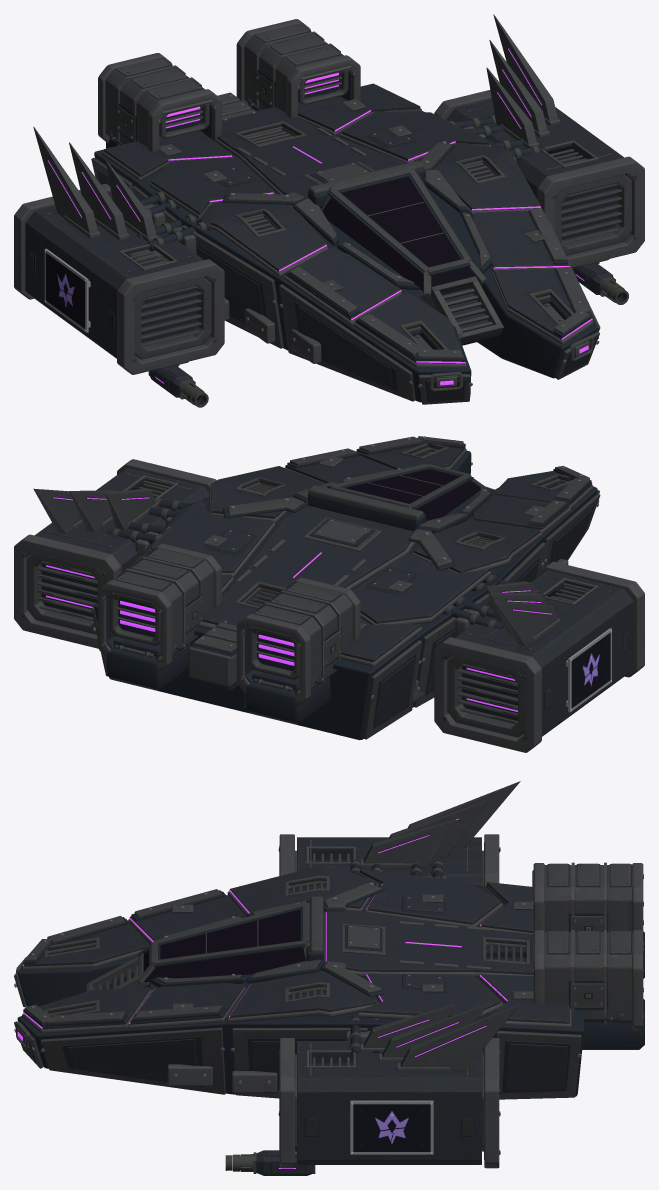
The model's file is eris-starter.glb.
3 views of the same model, one above another, from view 1: azimuth 30°, elevation 25°; view 2: azimuth 150°, elevation 25°; view 3: azimuth 270°, elevation 25° (orthographic).
Parts seen in each view (by area): view 1: Hull_eris_Armor, Hull_eris_BrushedAlloy, Generator_Port_Geometry, Hull_eris_EdgeGuards, Hull_eris_SmokedOptics, Insignia_ClanSlot_Right, Insignia_Carrier_Left; view 2: Hull_eris_Armor, Hull_eris_BrushedAlloy, Generator_Port_Geometry, Hull_eris_EdgeGuards, Hull_eris_SmokedOptics, Insignia_ClanSlot_Right, Insignia_Carrier_Left; view 3: Hull_eris_Armor, Hull_eris_BrushedAlloy, Generator_Port_Geometry, Hull_eris_EdgeGuards, Hull_eris_SmokedOptics, Faction_Insignia_Left, Insignia_Carrier_Left.
Part boxes in pixels (left/top/right/bottom): Hull_eris_Armor: left=25, top=83, right=627, bottom=401; Hull_eris_BrushedAlloy: left=33, top=14, right=637, bottom=404; Generator_Port_Geometry: left=28, top=23, right=636, bottom=407; Hull_eris_EdgeGuards: left=14, top=19, right=644, bottom=387; Hull_eris_SmokedOptics: left=197, top=177, right=620, bottom=400; Insignia_ClanSlot_Right: left=46, top=253, right=84, bottom=328; Insignia_Carrier_Left: left=44, top=248, right=90, bottom=332; Hull_eris_Armor: left=31, top=445, right=633, bottom=736; Hull_eris_BrushedAlloy: left=21, top=436, right=600, bottom=740; Generator_Port_Geometry: left=22, top=436, right=630, bottom=740; Hull_eris_EdgeGuards: left=14, top=447, right=644, bottom=752; Hull_eris_SmokedOptics: left=345, top=469, right=480, bottom=520; Insignia_ClanSlot_Right: left=571, top=632, right=610, bottom=708; Insignia_Carrier_Left: left=566, top=628, right=611, bottom=712; Hull_eris_Armor: left=17, top=837, right=569, bottom=1164; Hull_eris_BrushedAlloy: left=14, top=781, right=632, bottom=1154; Generator_Port_Geometry: left=14, top=803, right=644, bottom=1175; Hull_eris_EdgeGuards: left=18, top=834, right=643, bottom=1168; Hull_eris_SmokedOptics: left=143, top=909, right=305, bottom=981; Faction_Insignia_Left: left=353, top=1104, right=430, bottom=1151; Insignia_Carrier_Left: left=350, top=1100, right=433, bottom=1154.
Bounding box in the file's own units: 7.96 × 2.6 × 8.33.
Materials: 10 (10 with a texture image).
